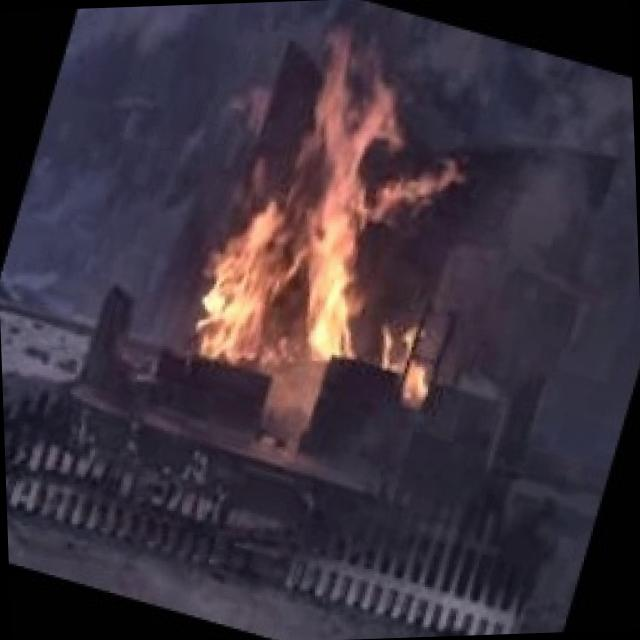fire: (125, 0, 552, 454)
